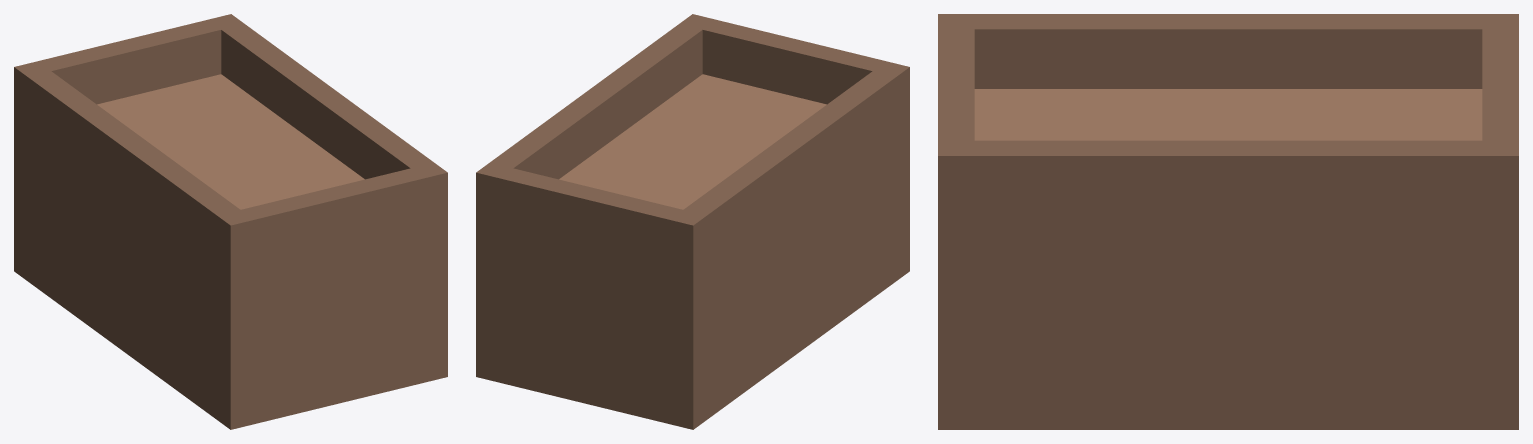
File: hochbeet_holz.glb
The picture shows the model from 3 angles, left to right: view 1: azimuth 30°, elevation 25°; view 2: azimuth 150°, elevation 25°; view 3: azimuth 270°, elevation 25°; orthographic projection. The views are drawn at different scales.
Visible parts, largest first — view 1: hochbeet_metall; view 2: hochbeet_metall; view 3: hochbeet_metall.
Boxes of the visible parts, x1,y1,x2,y2 form: hochbeet_metall: [14, 14, 447, 429]; hochbeet_metall: [476, 14, 909, 429]; hochbeet_metall: [938, 14, 1518, 429].
Bounding box in the file's own units: 12.16 × 10.94 × 21.01.
